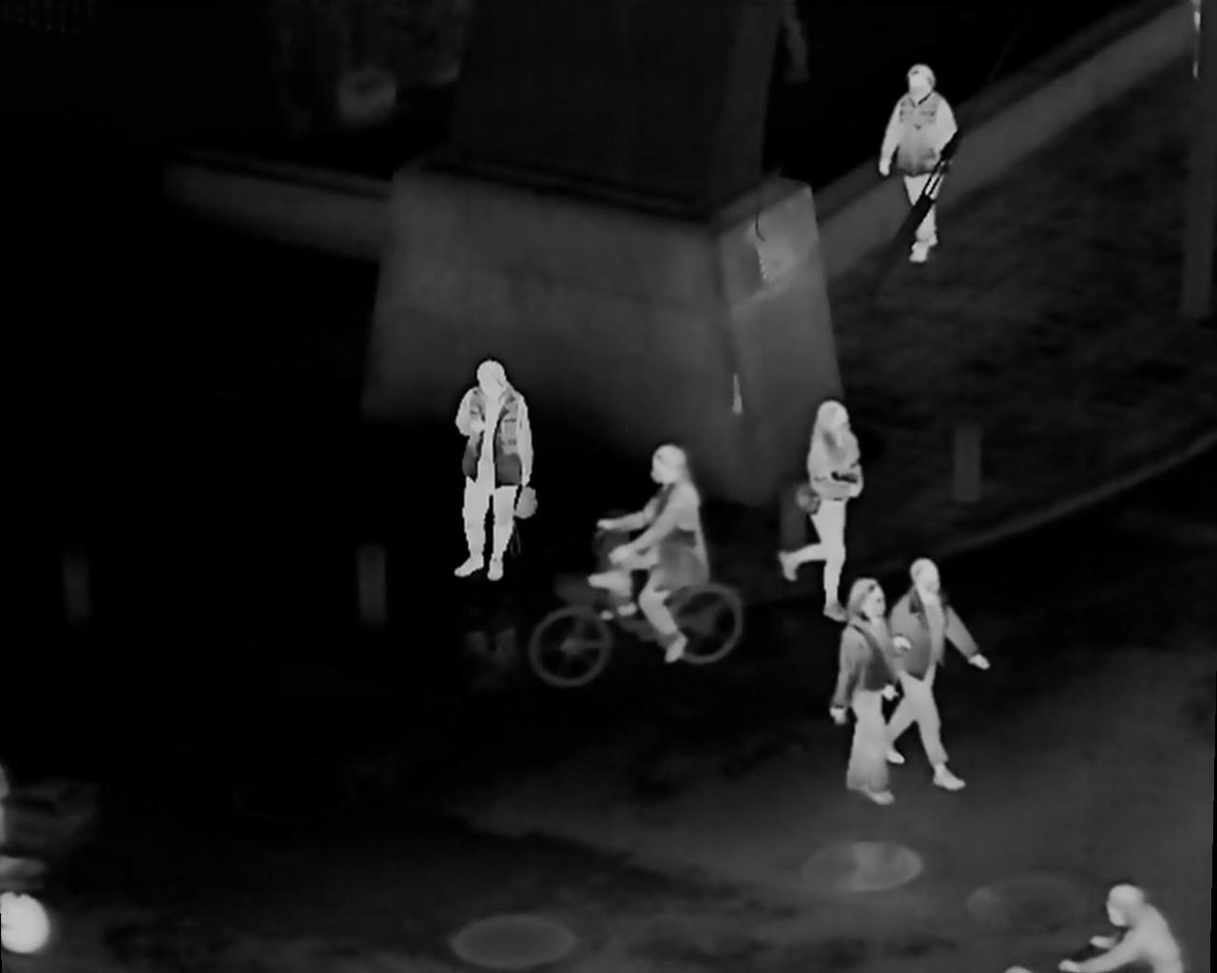person: (883, 559, 986, 797), (606, 439, 709, 658), (453, 355, 539, 594), (868, 66, 960, 258), (778, 398, 855, 620), (838, 577, 900, 815), (1055, 882, 1178, 973)
